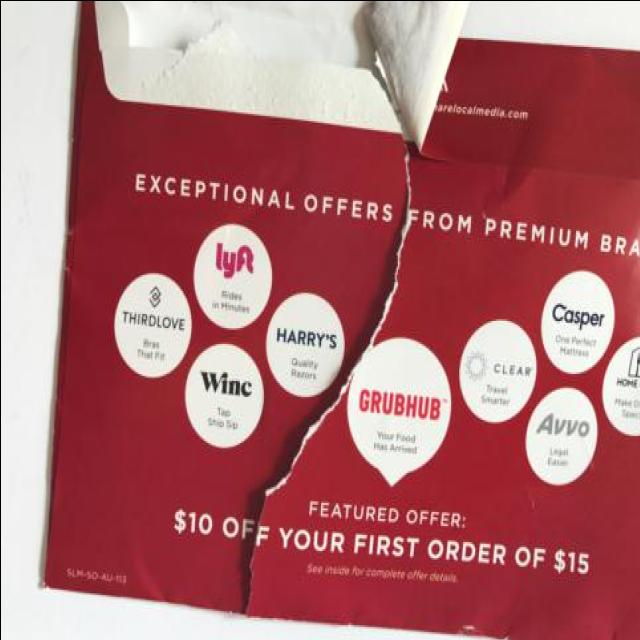kertas: (40, 0, 640, 640)
